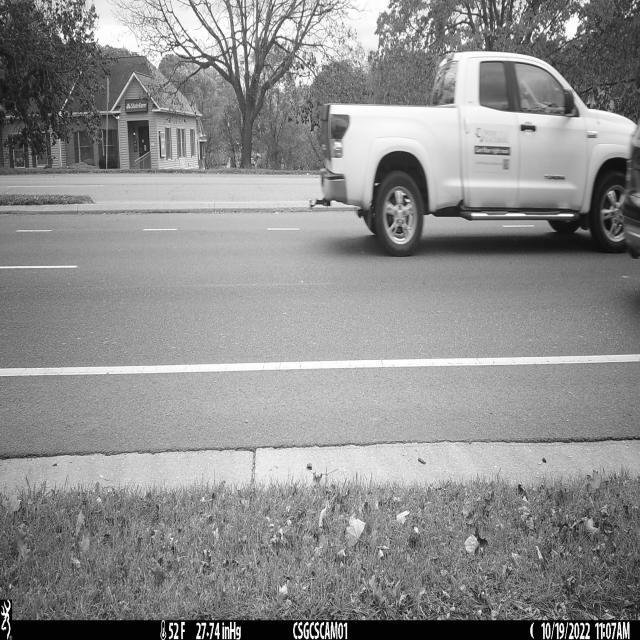Pickup: (306, 51, 637, 258)
